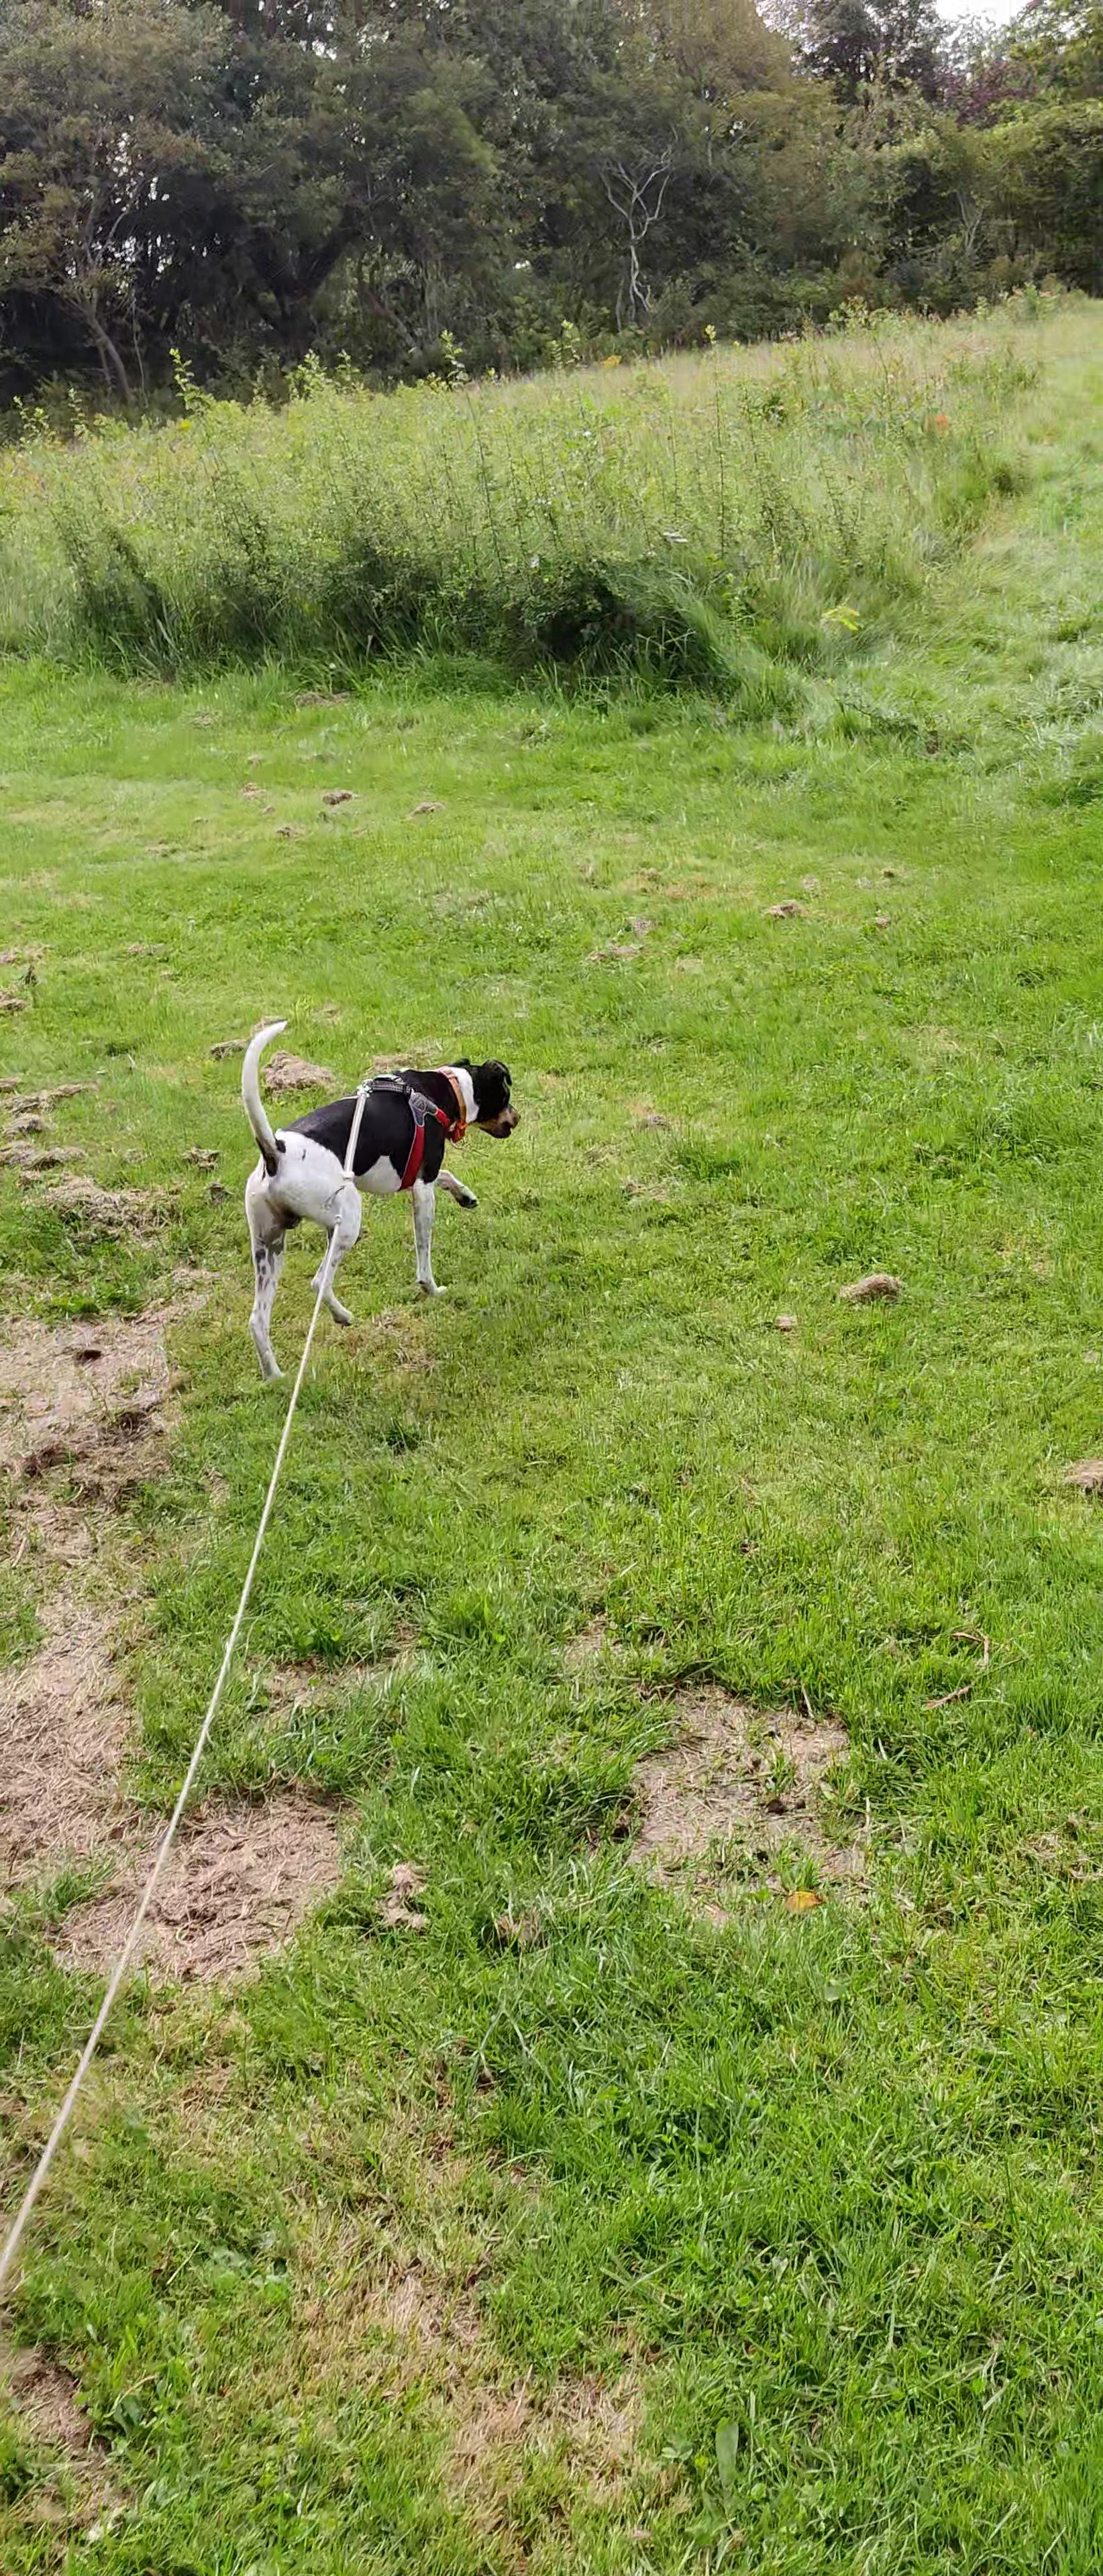Dog: (214, 1010, 523, 1400)
